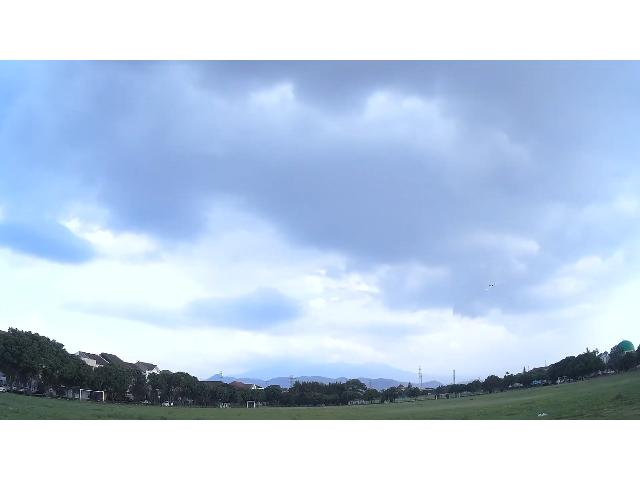Anti-Drone: (485, 281, 499, 291)
